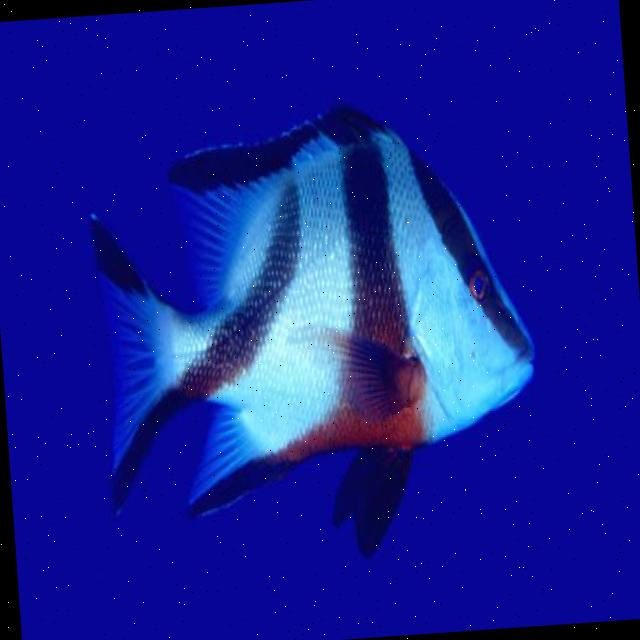ikan: (80, 87, 550, 572)
